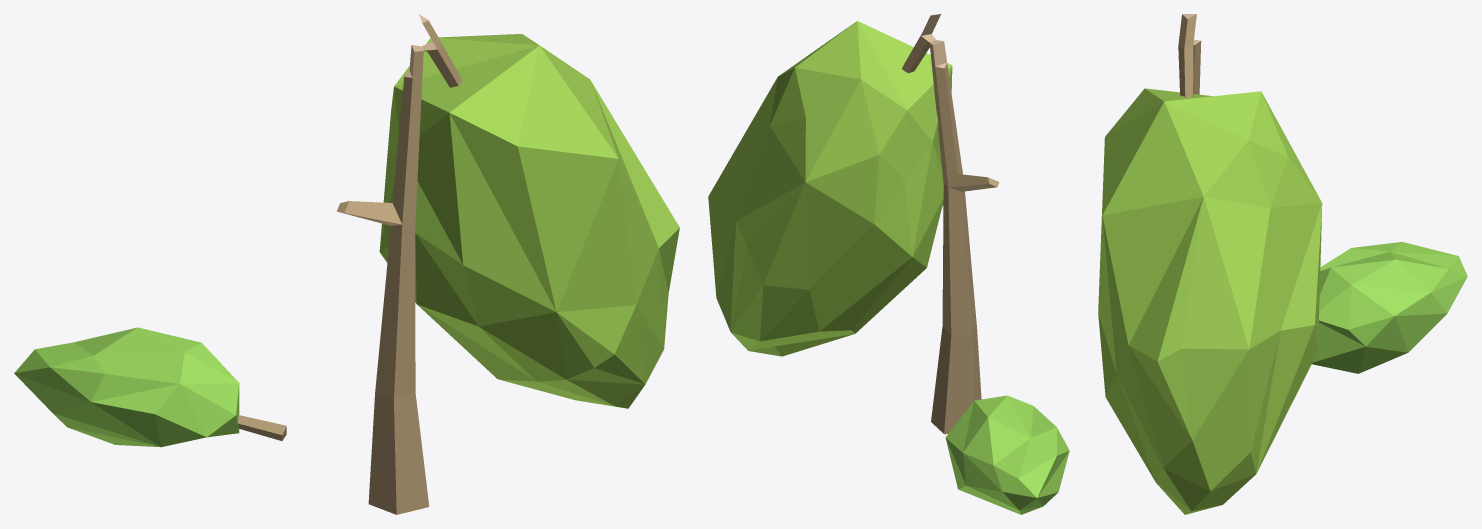
The model's file is Random_Tree_crk_m_02_LOD.fbx.
3 renders of one model, left to right at view 1: azimuth 30°, elevation 25°; view 2: azimuth 150°, elevation 25°; view 3: azimuth 270°, elevation 25°, orthographic. The views are drawn at different scales.
Visible parts, largest first — view 1: Random_Tree_crk_m_02_LOD0; view 2: Random_Tree_crk_m_02_LOD0; view 3: Random_Tree_crk_m_02_LOD0.
Part boxes in pixels (x1=…): Random_Tree_crk_m_02_LOD0: x1=14, y1=14, x2=679, y2=514; Random_Tree_crk_m_02_LOD0: x1=708, y1=14, x2=1069, y2=514; Random_Tree_crk_m_02_LOD0: x1=1098, y1=14, x2=1467, y2=514.
Size of what is drawn, in the model's own units: 557 by 495 by 374.
